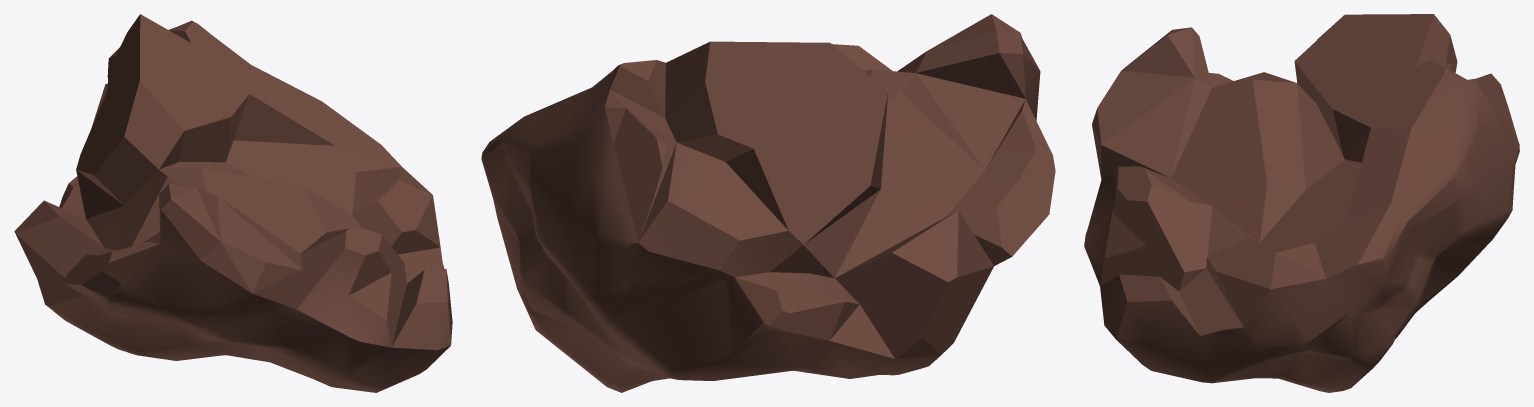
File: p_mesh_hvs_stalagmite_medium_destruction_part03.fbx
3 views of the same model, side by side, from view 1: azimuth 30°, elevation 25°; view 2: azimuth 150°, elevation 25°; view 3: azimuth 270°, elevation 25° (orthographic). The views are drawn at different scales.
Visible parts, largest first — view 1: p_medium_part3; view 2: p_medium_part3; view 3: p_medium_part3.
Part boxes in pixels (left/top/right/bottom): p_medium_part3: left=14, top=14, right=452, bottom=392; p_medium_part3: left=481, top=14, right=1055, bottom=392; p_medium_part3: left=1084, top=14, right=1519, bottom=392.
Size of the model in its own units: 7.06 by 5.88 by 7.21.
